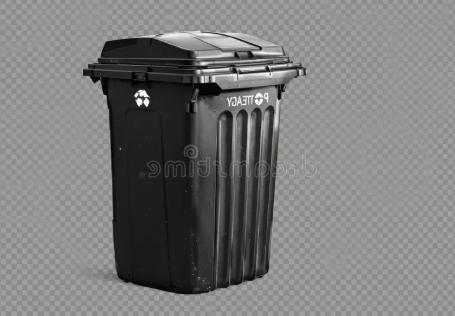garbage container: (78, 28, 310, 298)
